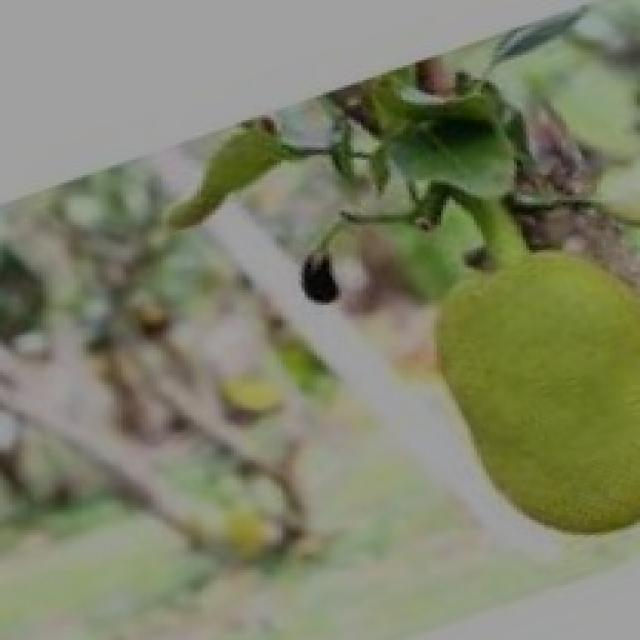Fruit: (384, 215, 640, 565)
